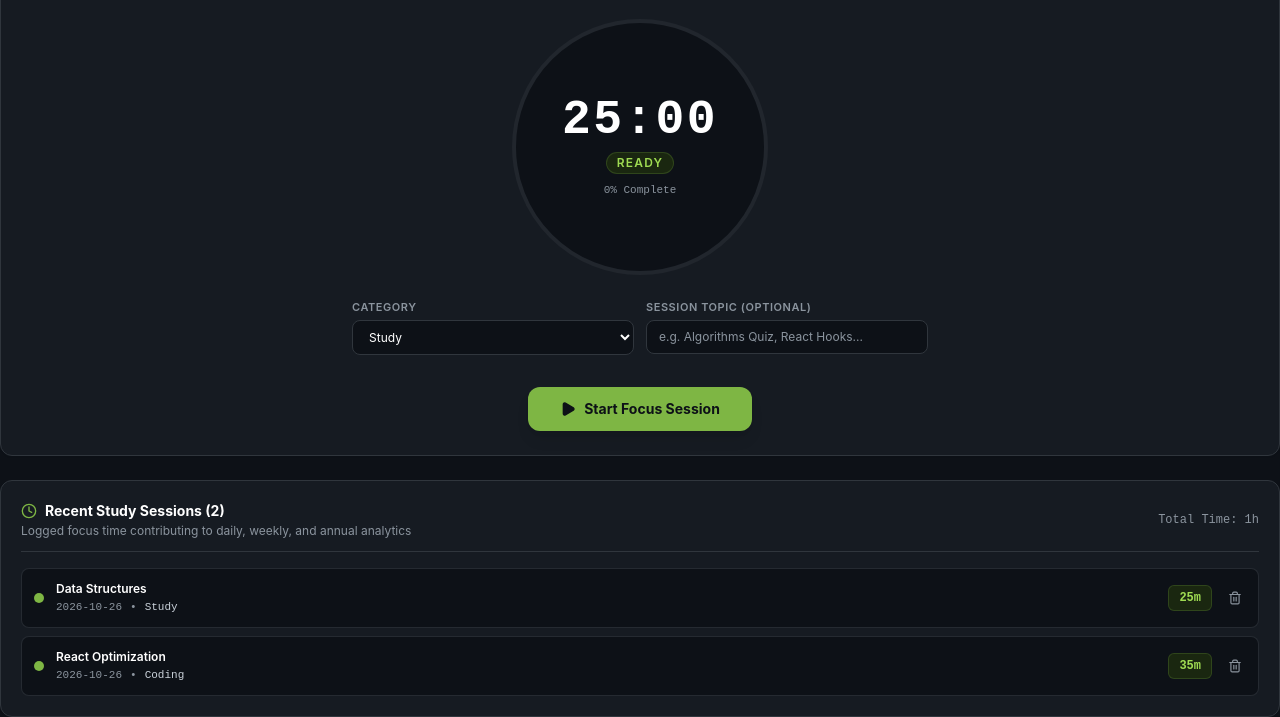
Test: FocusTimer Component › starts countdown and displays pause control
(page scrolled)
Click the button "Start Focus Session": (640, 408) [528,386,752,430]
(page scrolled)
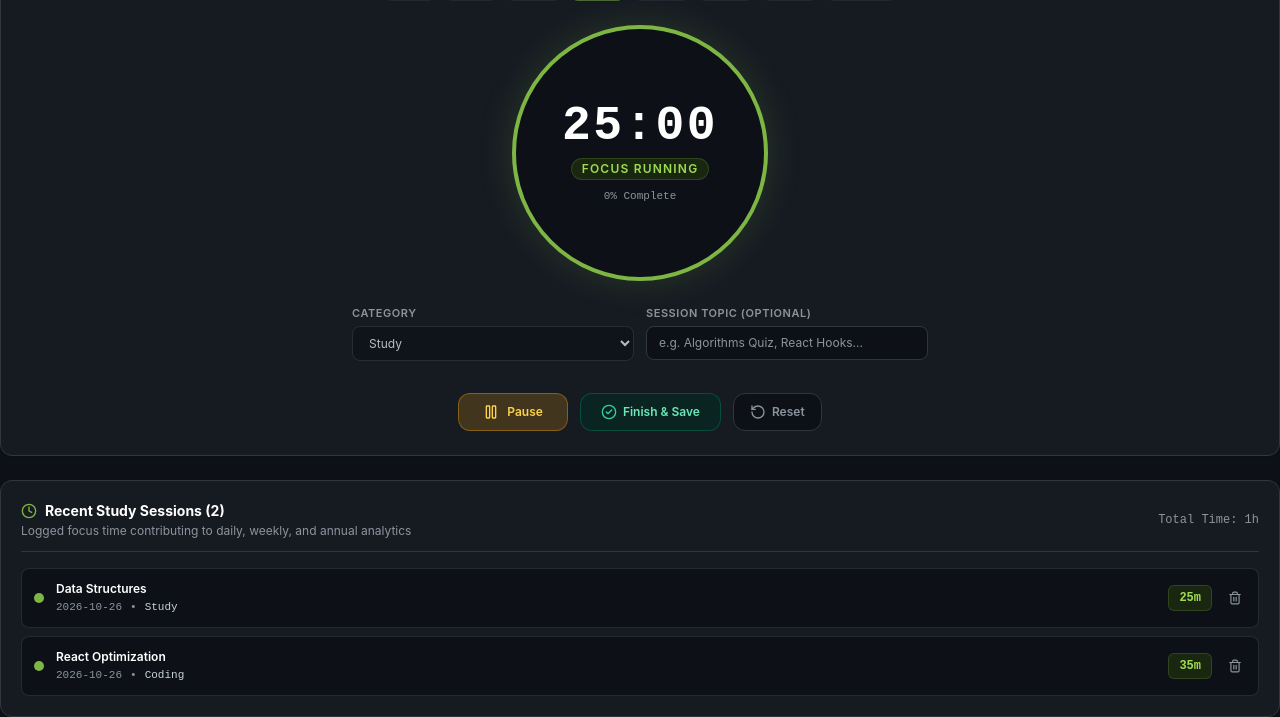
Check: the text "Pause" is shown, box [507,404,543,420]
Check: the text "Finish & Save" is shown, box [623,404,700,420]
Check: the text "Reset" is shown, box [772,404,805,420]
